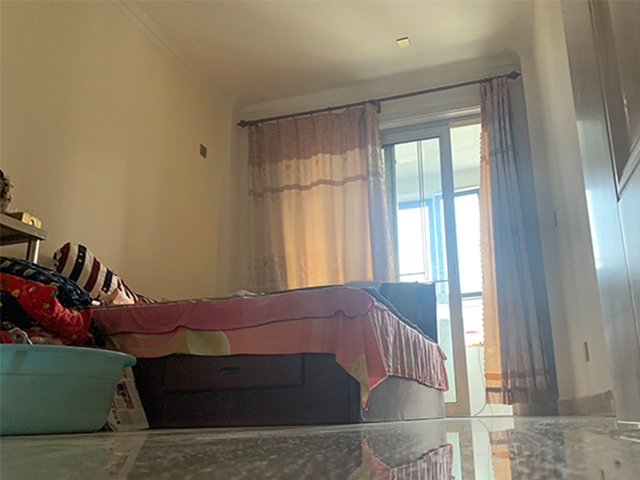bed: (95, 280, 449, 428)
curtain: (244, 102, 399, 288), (478, 75, 560, 406)
